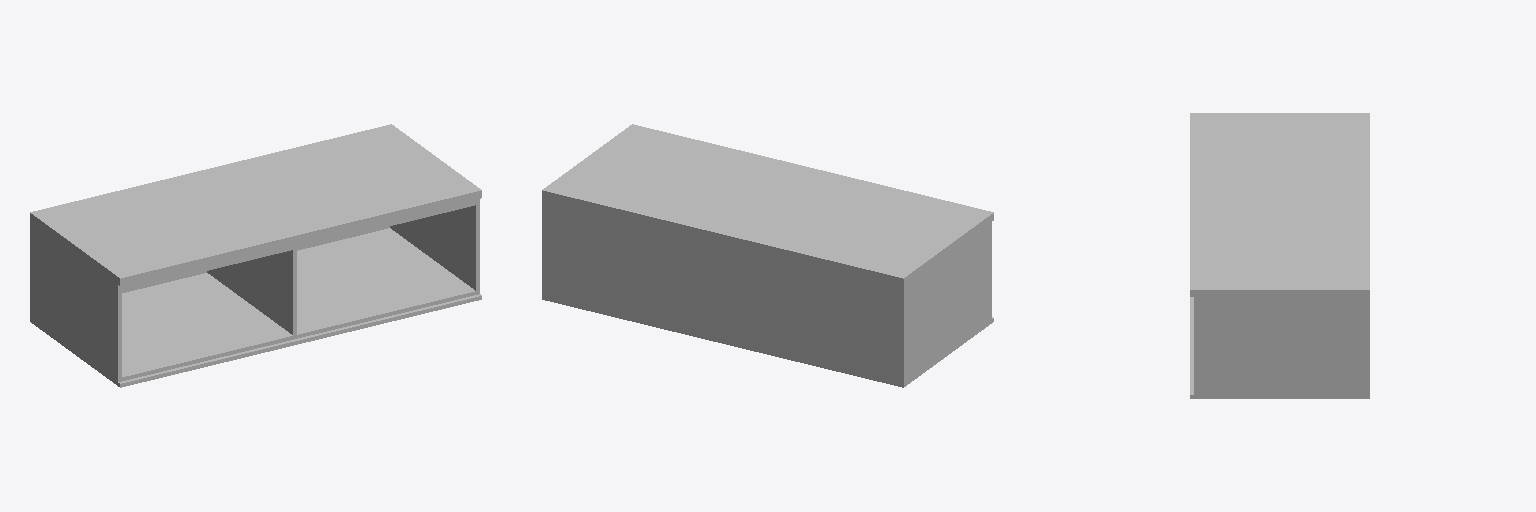
The model's file is Shell-0.obj.
3 views of the same model, side by side, from view 1: azimuth 30°, elevation 25°; view 2: azimuth 150°, elevation 25°; view 3: azimuth 270°, elevation 25° (orthographic).
Parts seen in each view (by area): view 1: Shell-0; view 2: Shell-0; view 3: Shell-0.
Part boxes in pixels (x1,y1,x2,y2): Shell-0: (30,124,481,387); Shell-0: (542,124,993,387); Shell-0: (1190,113,1369,398).
Bounding box in the file's own units: 97 × 28 × 42.